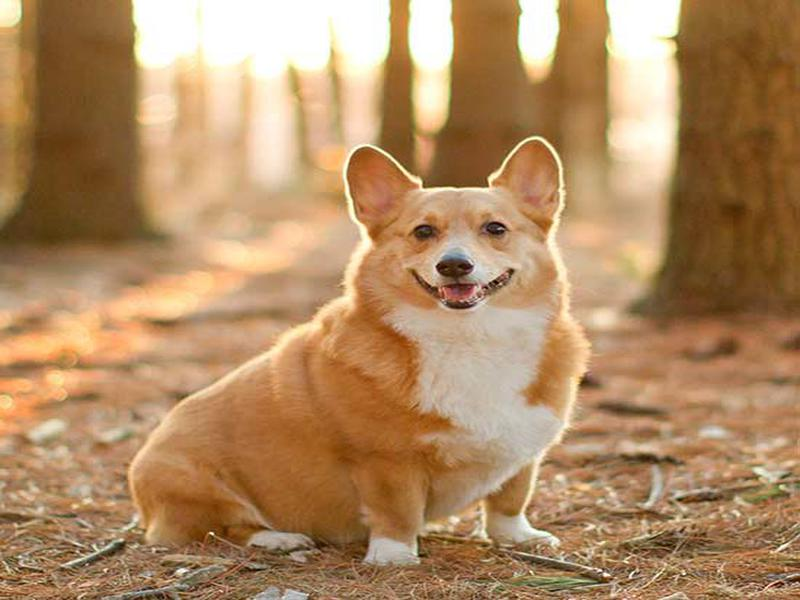corgi: (342, 135, 571, 315)
